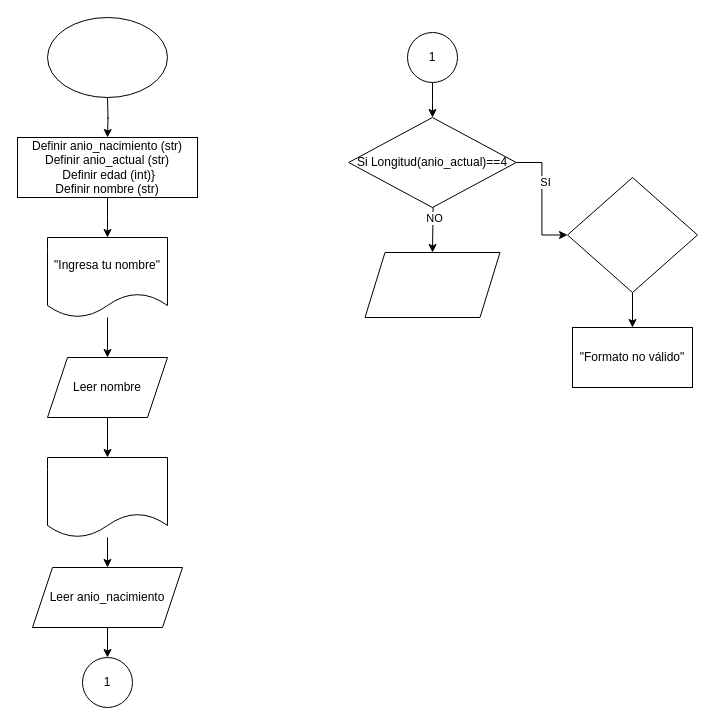
Image size: 715x725. Some labels were removed from this diagram. Each missing label, with the box of its shape:
"Formato incorrecto": (364, 252, 500, 318)
"Ingresa tu año de nacimiento": (46, 456, 168, 538)
anio_actual<2030 y anio_actual>2023: (566, 176, 698, 292)
INICIO: (46, 16, 168, 98)
